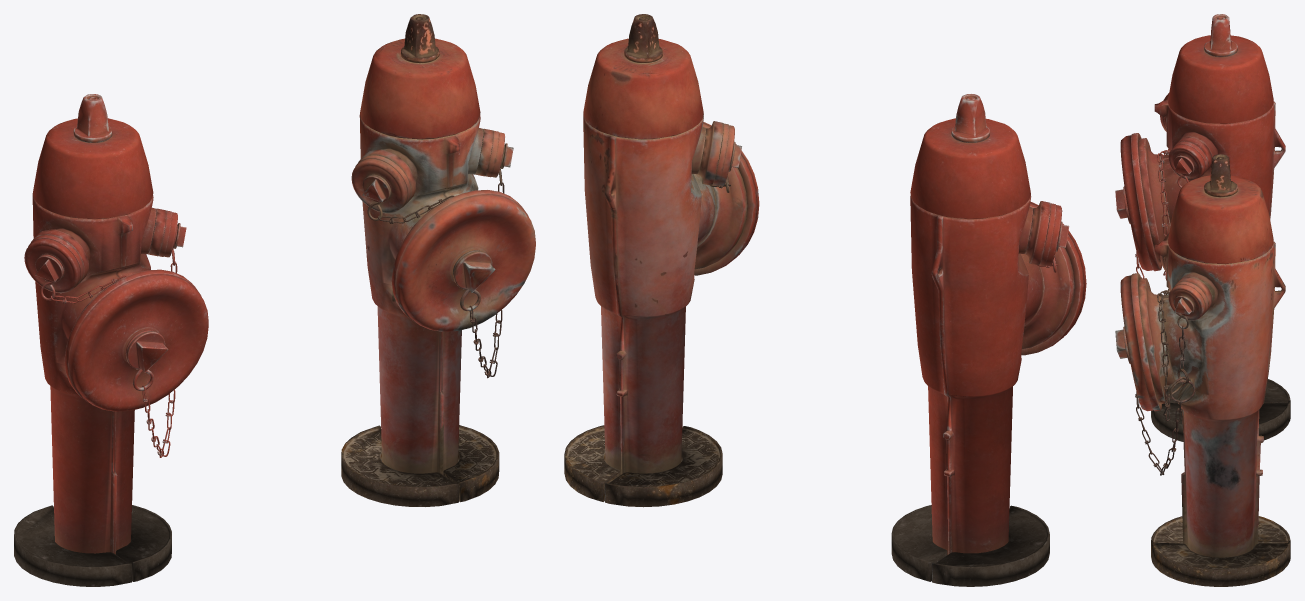
File: fire_hydrant.glb
The picture shows the model from 3 angles, left to right: view 1: azimuth 30°, elevation 25°; view 2: azimuth 150°, elevation 25°; view 3: azimuth 270°, elevation 25°; orthographic projection. The views are drawn at different scales.
Visible parts, largest first — view 1: fire_hydrant_aged, fire_hydrant, fire_hydrant_cap_01, fire_hydrant_cap_01_aged, fire_hydrant_cap_03_aged, fire_hydrant_cap_03, fire_hydrant_chain, fire_hydrant_chain_aged, fire_hydrant_cap_02, fire_hydrant_cap_02_aged; view 2: fire_hydrant, fire_hydrant_aged, fire_hydrant_cap_01, fire_hydrant_cap_01_aged, fire_hydrant_cap_03_aged, fire_hydrant_cap_03; view 3: fire_hydrant_aged, fire_hydrant, fire_hydrant_cap_01, fire_hydrant_cap_01_aged, fire_hydrant_chain_aged, fire_hydrant_cap_02_aged, fire_hydrant_cap_02, fire_hydrant_chain.
Part boxes in pixels (bbox=[...]): fire_hydrant_aged: bbox=[341, 14, 499, 506]; fire_hydrant: bbox=[14, 94, 171, 586]; fire_hydrant_cap_01: bbox=[64, 269, 208, 411]; fire_hydrant_cap_01_aged: bbox=[391, 190, 535, 331]; fire_hydrant_cap_03_aged: bbox=[351, 155, 410, 213]; fire_hydrant_cap_03: bbox=[24, 235, 83, 293]; fire_hydrant_chain: bbox=[40, 224, 177, 457]; fire_hydrant_chain_aged: bbox=[367, 145, 504, 378]; fire_hydrant_cap_02: bbox=[158, 210, 186, 257]; fire_hydrant_cap_02_aged: bbox=[485, 131, 513, 177]; fire_hydrant: bbox=[891, 94, 1074, 586]; fire_hydrant_aged: bbox=[564, 14, 747, 507]; fire_hydrant_cap_01: bbox=[1021, 202, 1086, 355]; fire_hydrant_cap_01_aged: bbox=[694, 122, 759, 275]; fire_hydrant_cap_03_aged: bbox=[712, 123, 741, 186]; fire_hydrant_cap_03: bbox=[1039, 203, 1069, 266]; fire_hydrant_aged: bbox=[1138, 154, 1290, 586]; fire_hydrant: bbox=[1138, 14, 1290, 441]; fire_hydrant_cap_01: bbox=[1115, 133, 1161, 271]; fire_hydrant_cap_01_aged: bbox=[1115, 273, 1161, 411]; fire_hydrant_chain_aged: bbox=[1135, 289, 1195, 475]; fire_hydrant_cap_02_aged: bbox=[1168, 281, 1208, 320]; fire_hydrant_cap_02: bbox=[1168, 141, 1208, 180]; fire_hydrant_chain: bbox=[1135, 149, 1193, 280].
Size of the model in its own units: 0.8746 by 0.7994 by 0.3173.
Materials: 2 (2 with a texture image).
